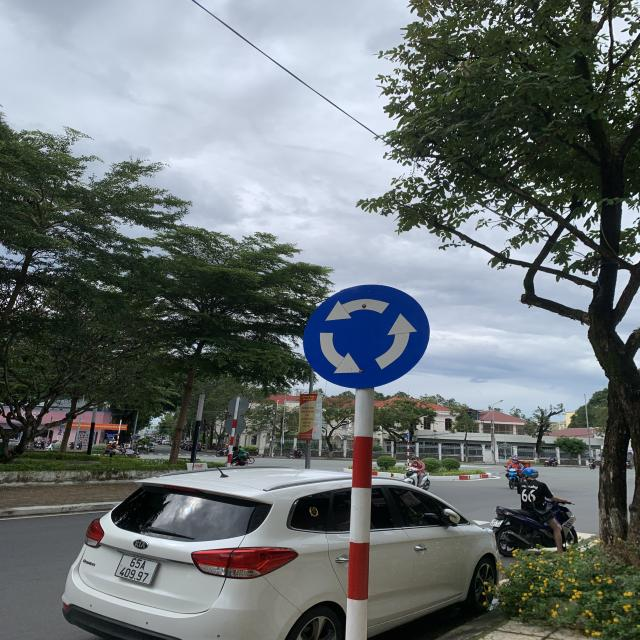Xe_Bus: (301, 283, 432, 389)
